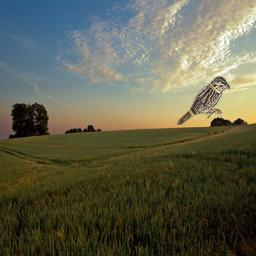Sparrow: (177, 76, 230, 125)
